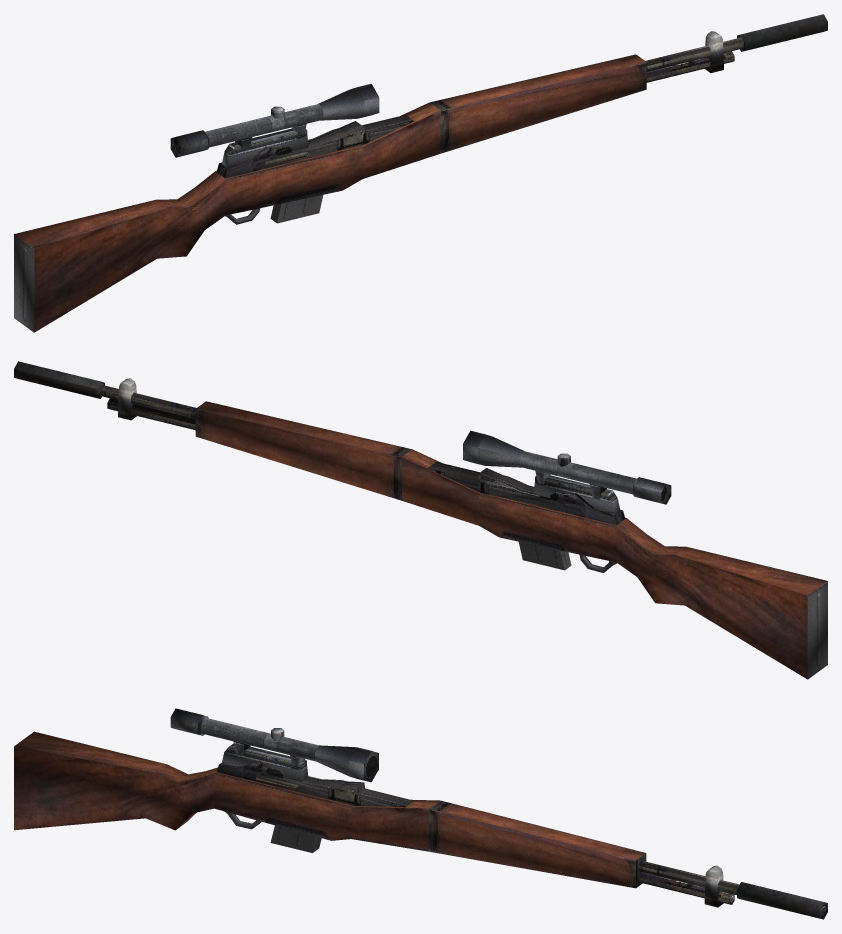
Rendered from m1_garand_modified_ps1_style.glb.
3 views of the same model, one above another, from view 1: azimuth 30°, elevation 25°; view 2: azimuth 150°, elevation 25°; view 3: azimuth 330°, elevation 25° (orthographic).
Parts seen in each view (by area): view 1: M1Garand_0, Scope_1, M1Magazine_2; view 2: M1Garand_0, Scope_1, M1Magazine_2; view 3: M1Garand_0, Scope_1, M1Magazine_2.
Boxes of the visible parts, bbox=[...] form: M1Garand_0: bbox=[14, 14, 827, 332]; Scope_1: bbox=[170, 83, 379, 168]; M1Magazine_2: bbox=[270, 195, 323, 223]; M1Garand_0: bbox=[14, 361, 827, 679]; Scope_1: bbox=[463, 430, 671, 515]; M1Magazine_2: bbox=[518, 542, 571, 570]; M1Garand_0: bbox=[14, 731, 827, 919]; Scope_1: bbox=[170, 708, 378, 782]; M1Magazine_2: bbox=[270, 825, 321, 852].
Size of the model in its own units: 5.24 by 0.9828 by 0.2293.
Materials: 2 (2 with a texture image).
